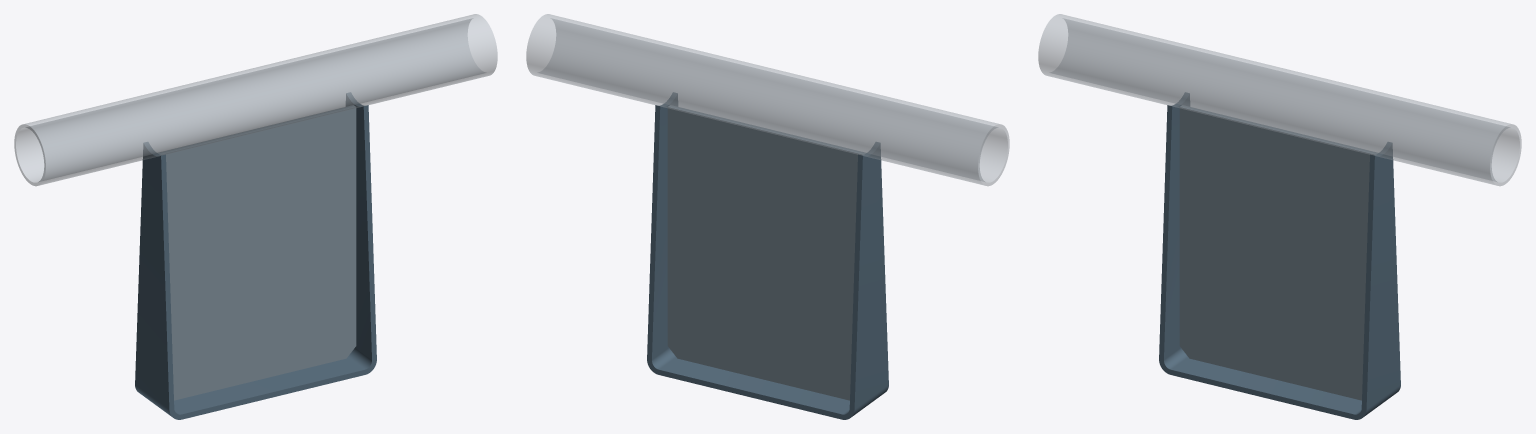
Rendered from TS-623.000-02-opora-dn45-H200-L170.glb.
3 renders of one model, left to right at view 1: azimuth 30°, elevation 25°; view 2: azimuth 150°, elevation 25°; view 3: azimuth 330°, elevation 25°, orthographic.
Visible parts, largest first — view 1: rebro, truba, skoba; view 2: rebro, truba, skoba; view 3: rebro, truba, skoba.
Part boxes in pixels (x1,y1,x2,y2): rebro: (158,105,356,400); truba: (14,14,497,186); skoba: (135,92,376,419); rebro: (667,105,865,400); truba: (526,14,1009,186); skoba: (647,92,888,419); rebro: (1179,105,1377,400); truba: (1038,14,1521,186); skoba: (1159,92,1400,419).
Bounding box in the file's own units: 370 × 245 × 50.
